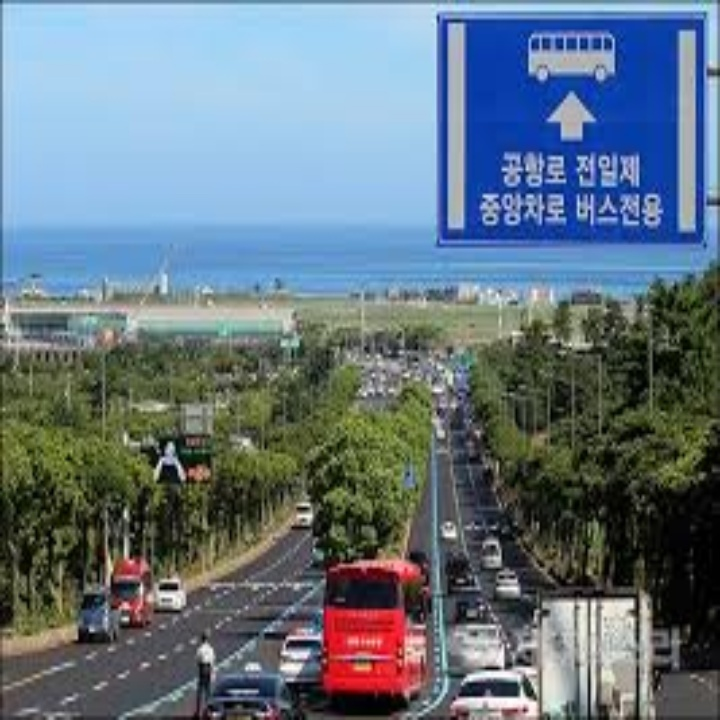bus: (517, 26, 624, 83)
